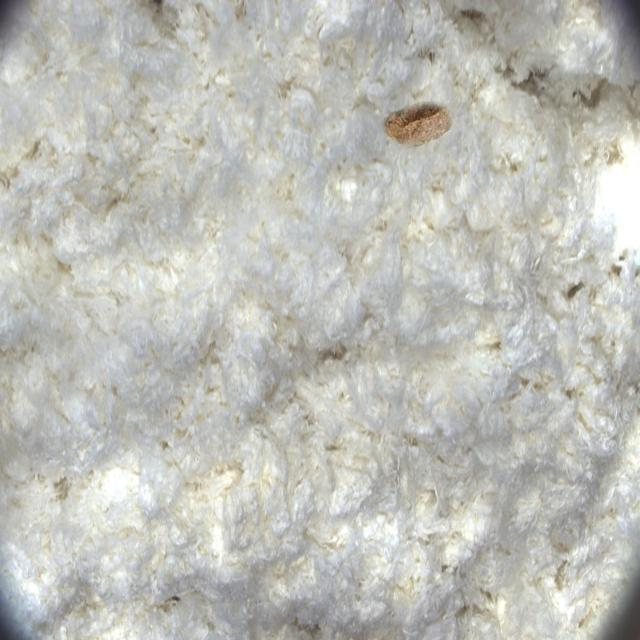dust: (355, 61, 471, 188)
